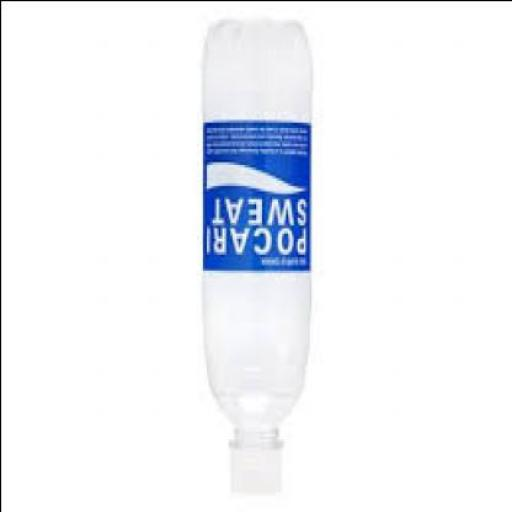plastic: (204, 21, 314, 496), (230, 440, 286, 494)
